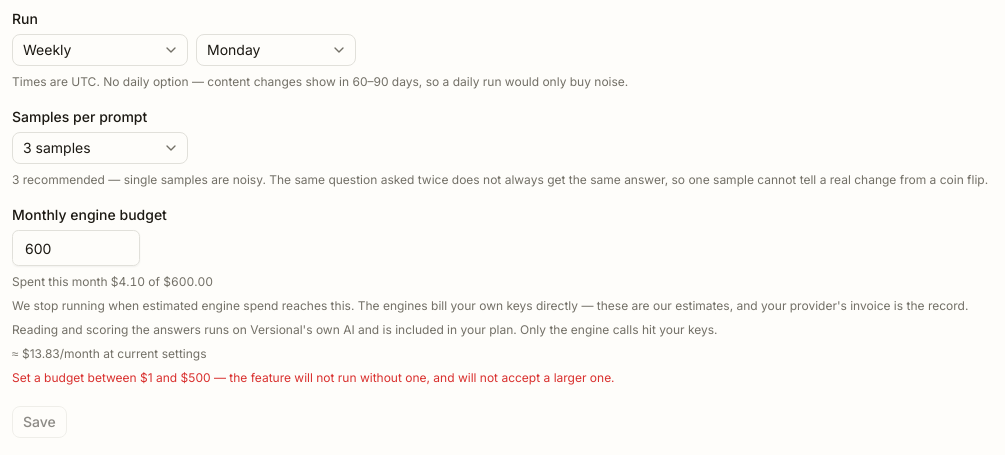
Test: AiVisibilityForm › the cap's legal range › re-enables Save once the number is back in range
The width and height of the screenshot is (1005, 455).
Expected: the button "Save" is disabled, [12,406,67,438]
Replace the text in the number field labelled "Monthly engine budget" with "50": (76, 248) [12,230,140,266]
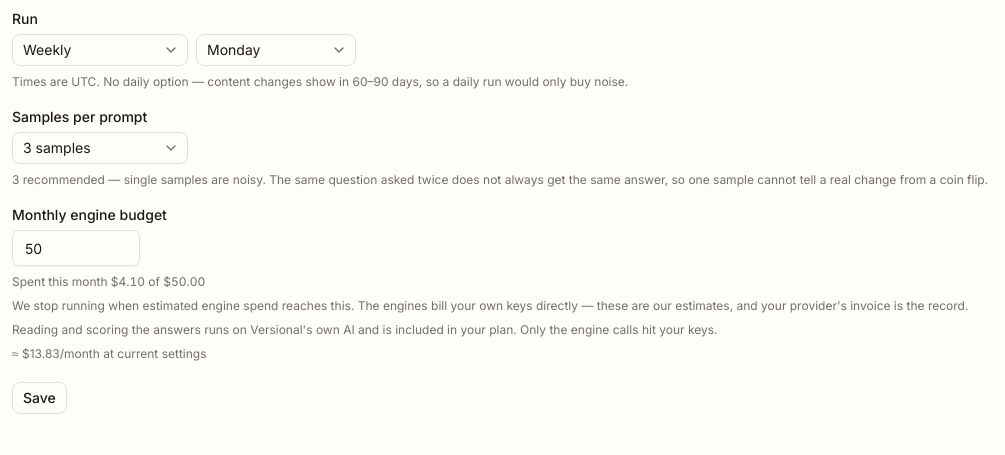
Result: the button "Save" is enabled at [12,382,67,414]
